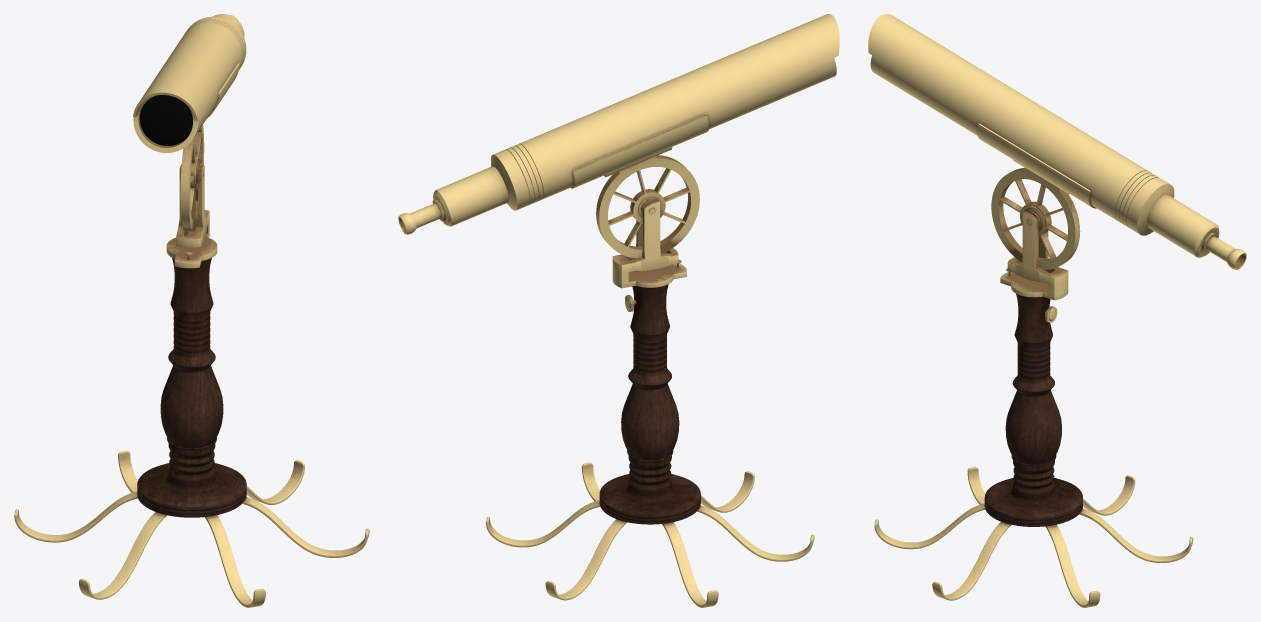
The model's file is vintage_table_telescope.glb.
The picture shows the model from 3 angles, left to right: view 1: azimuth 30°, elevation 25°; view 2: azimuth 150°, elevation 25°; view 3: azimuth 270°, elevation 25°; orthographic projection. The views are drawn at different scales.
Parts seen in each view (by area): view 1: Cylinder.009_6, Cylinder.006_0, Telascope.001_7, Cylinder.007_4, Circle.003_1; view 2: Cylinder.006_0, Cylinder.009_6, Telascope.001_7, Circle.003_1, Cylinder.007_4; view 3: Cylinder.006_0, Cylinder.009_6, Telascope.001_7, Circle.003_1, Cylinder.007_4.
Part boxes in pixels (x1,y1,x2,y2): Cylinder.009_6: (137,258,246,517); Cylinder.006_0: (133,14,246,152); Telascope.001_7: (14,450,369,607); Cylinder.007_4: (166,164,217,268); Circle.003_1: (180,125,204,231); Cylinder.006_0: (398,14,839,234); Cylinder.009_6: (599,284,700,524); Telascope.001_7: (486,462,814,607); Circle.003_1: (596,155,699,258); Cylinder.007_4: (612,200,686,288); Cylinder.006_0: (868,14,1246,269); Cylinder.009_6: (984,294,1082,526); Telascope.001_7: (874,466,1193,607); Circle.003_1: (991,168,1080,269); Cylinder.007_4: (1000,211,1068,300).
Bounding box in the file's own units: 0.3997 × 0.6833 × 0.4794.
2 materials, 1 textured.
